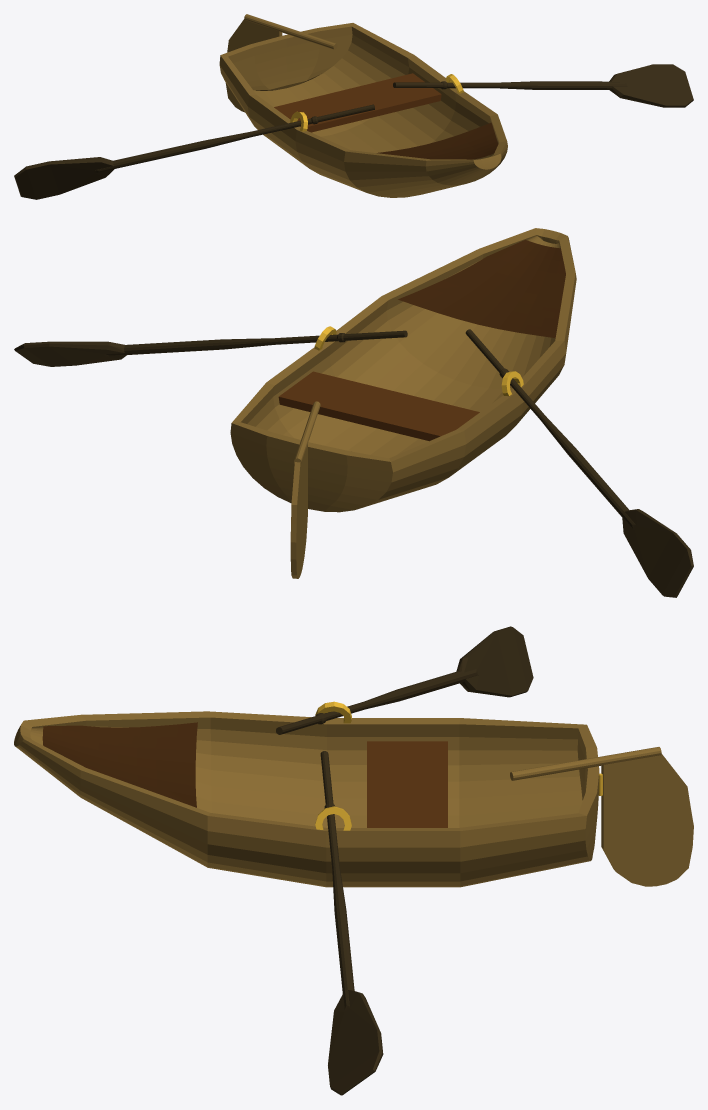
File: RowBoat_v2.fbx
3 renders of one model, top to bottom at view 1: azimuth 30°, elevation 25°; view 2: azimuth 150°, elevation 25°; view 3: azimuth 270°, elevation 25°, orthographic. The views are drawn at different scales.
Visible parts, largest first — view 1: Boat, Boat.Oar.R, Boat.Oar.L, Boat.Seat, Boat_Cover.Raw.001, Boat.Rudder; view 2: Boat, Boat_Cover.Raw.001, Boat.Seat, Boat.Oar.R, Boat.Oar.L, Boat.Rudder; view 3: Boat, Boat.Rudder, Boat_Cover.Raw.001, Boat.Seat, Boat.Oar.L, Boat.Oar.R.
Boxes of the visible parts, x1=… form: Boat: x1=219, y1=23, x2=507, y2=197; Boat.Oar.R: x1=14, y1=104, x2=374, y2=199; Boat.Oar.L: x1=393, y1=64, x2=693, y2=107; Boat.Seat: x1=274, y1=73, x2=441, y2=132; Boat_Cover.Raw.001: x1=377, y1=122, x2=498, y2=159; Boat.Rudder: x1=225, y1=14, x2=337, y2=112; Boat: x1=230, y1=228, x2=576, y2=512; Boat_Cover.Raw.001: x1=398, y1=239, x2=565, y2=338; Boat.Seat: x1=278, y1=371, x2=479, y2=441; Boat.Oar.R: x1=465, y1=329, x2=693, y2=597; Boat.Oar.L: x1=14, y1=330, x2=407, y2=366; Boat.Rudder: x1=290, y1=401, x2=320, y2=578; Boat: x1=14, y1=711, x2=599, y2=887; Boat.Rudder: x1=510, y1=747, x2=693, y2=886; Boat_Cover.Raw.001: x1=42, y1=722, x2=197, y2=807; Boat.Seat: x1=367, y1=741, x2=447, y2=827; Boat.Oar.L: x1=320, y1=751, x2=383, y2=1095; Boat.Oar.R: x1=276, y1=626, x2=533, y2=734.
Bounding box in the file's own units: 440 × 79.59 × 298.
